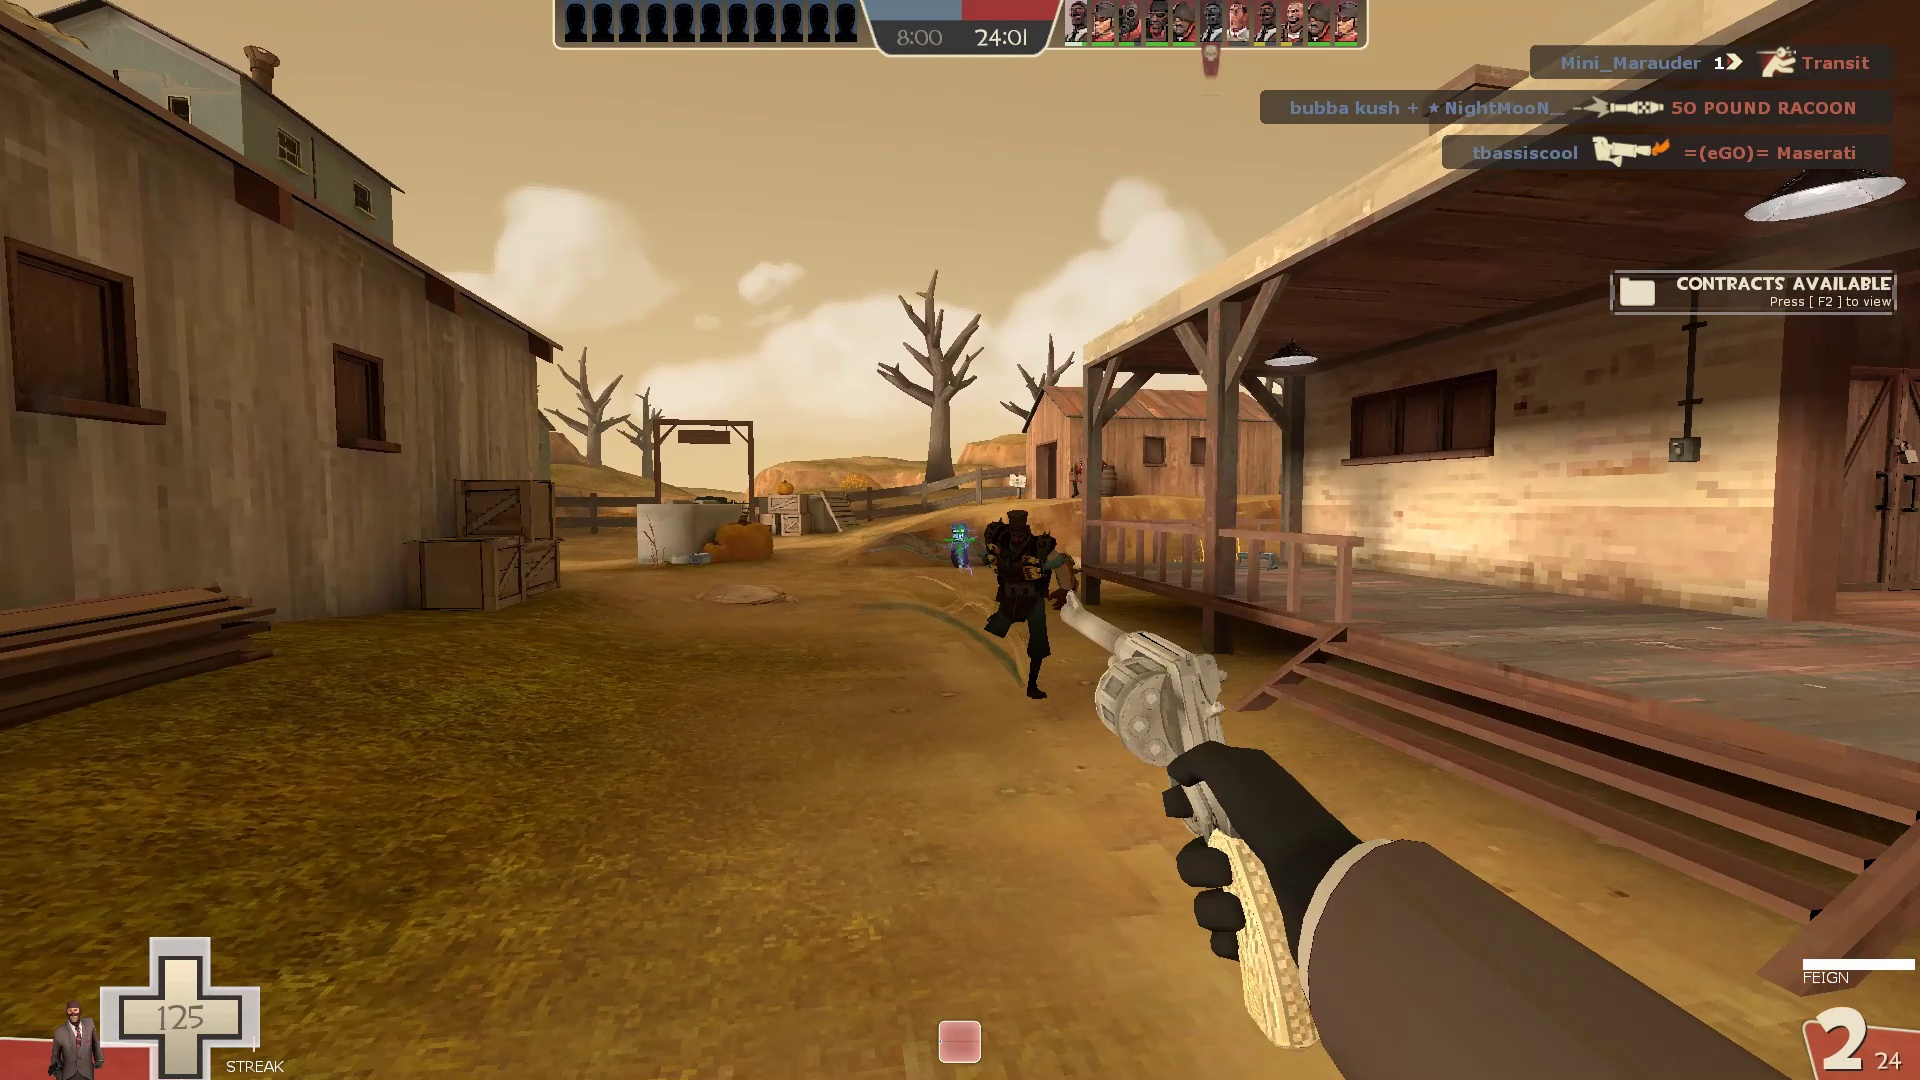blu_demo: (934, 508, 1088, 709)
